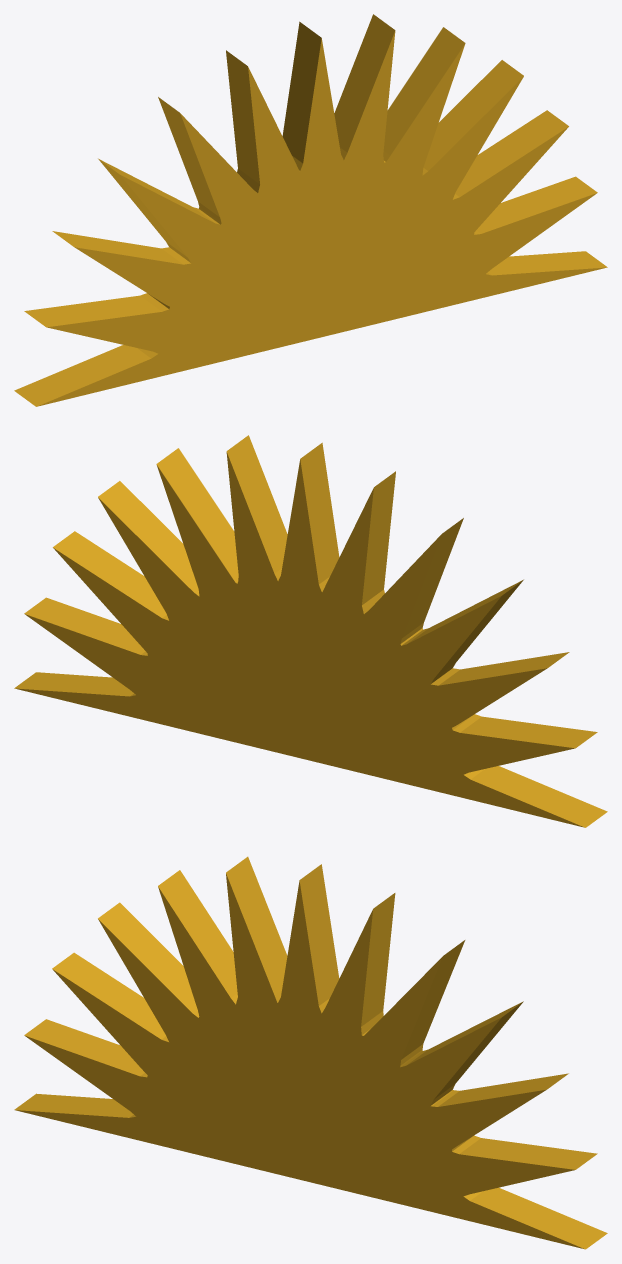
File: Prop_Jungle_Temple_Ornament_Sun_Plaque_Small_Gold_03.FBX
3 views of the same model, one above another, from view 1: azimuth 30°, elevation 25°; view 2: azimuth 150°, elevation 25°; view 3: azimuth 330°, elevation 25° (orthographic).
Parts seen in each view (by area): view 1: Prop_Jungle_Temple_Ornament_Sun_Plaque_Small_Gold_03; view 2: Prop_Jungle_Temple_Ornament_Sun_Plaque_Small_Gold_03; view 3: Prop_Jungle_Temple_Ornament_Sun_Plaque_Small_Gold_03.
Part boxes in pixels (x1,y1,x2,y2): Prop_Jungle_Temple_Ornament_Sun_Plaque_Small_Gold_03: (14, 14, 607, 406); Prop_Jungle_Temple_Ornament_Sun_Plaque_Small_Gold_03: (14, 435, 607, 827); Prop_Jungle_Temple_Ornament_Sun_Plaque_Small_Gold_03: (14, 856, 607, 1249).
Size of the model in its own units: 661 by 331 by 44.43.
